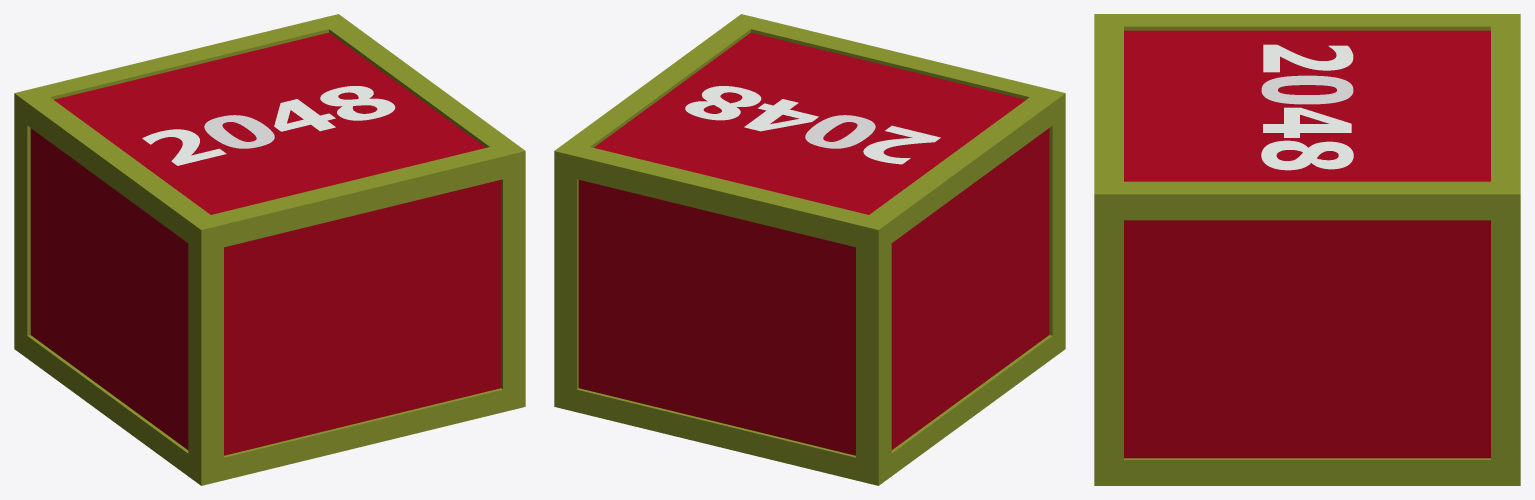
File: 2048Prefab.fbx
3 views of the same model, side by side, from view 1: azimuth 30°, elevation 25°; view 2: azimuth 150°, elevation 25°; view 3: azimuth 270°, elevation 25° (orthographic). The views are drawn at different scales.
Parts seen in each view (by area): view 1: Text.022; view 2: Text.022; view 3: Text.022.
Boxes of the visible parts, x1=… form: Text.022: x1=14, y1=14, x2=525, y2=485; Text.022: x1=554, y1=14, x2=1065, y2=485; Text.022: x1=1094, y1=14, x2=1520, y2=485.
Bounding box in the file's own units: 194 × 146 × 194.
